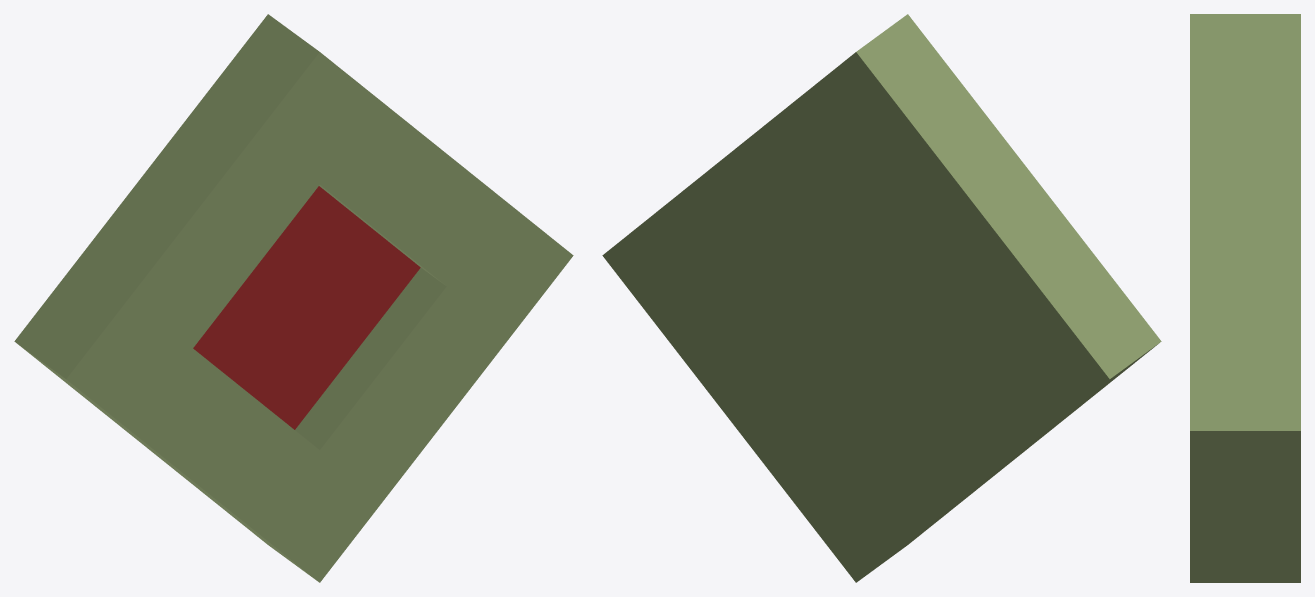
3 views of the same model, side by side, from view 1: azimuth 30°, elevation 25°; view 2: azimuth 150°, elevation 25°; view 3: azimuth 270°, elevation 25° (orthographic). The views are drawn at different scales.
Visible parts, largest first — view 1: OUT; view 2: OUT; view 3: OUT.
Part boxes in pixels (x1,y1,x2,y2): OUT: [14, 14, 573, 582]; OUT: [602, 14, 1161, 582]; OUT: [1190, 14, 1300, 582].
Size of the model in its own units: 2.83 by 2.83 by 0.5.
